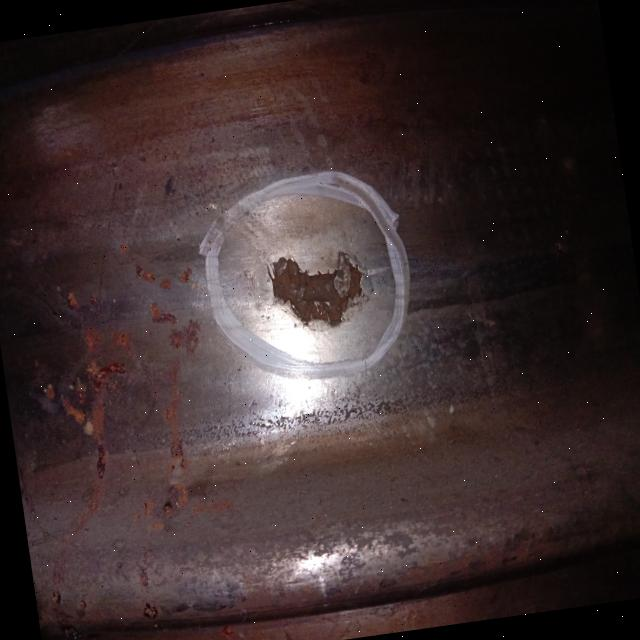Blue hole: (248, 219, 383, 346)
